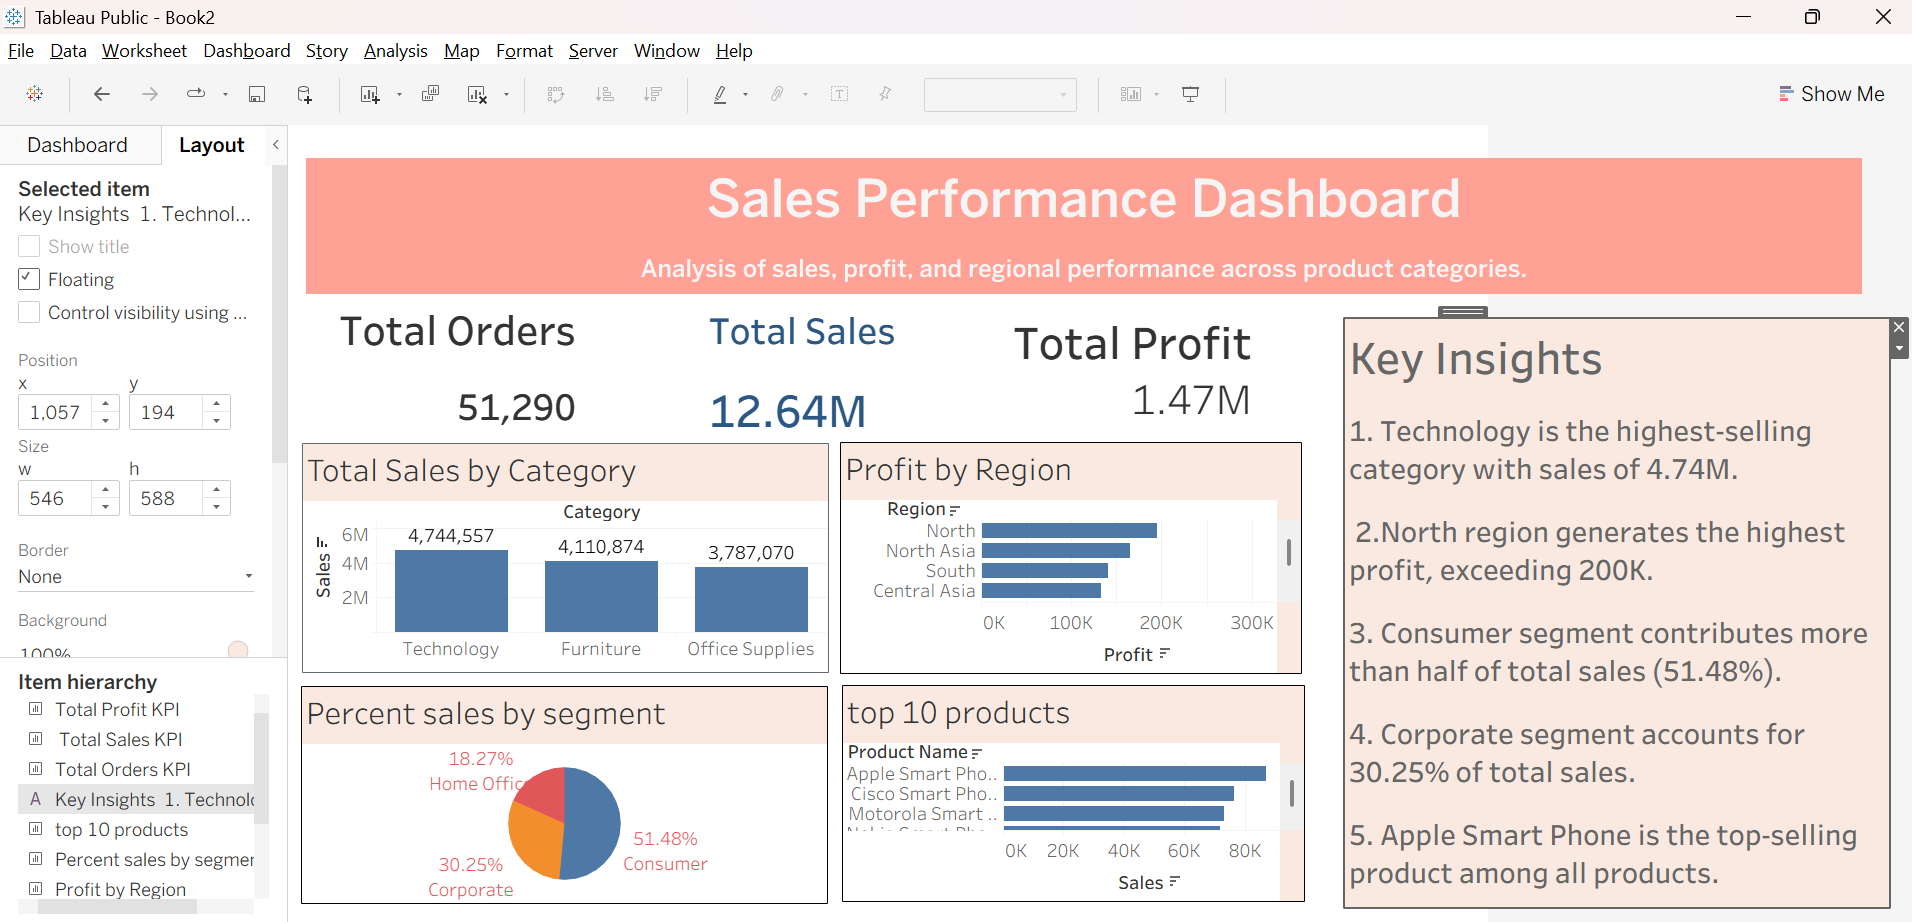

This screenshot's page, from the dashboard's own definition file:
{"tool":"tableau","page":{"name":"Dashboard 1","canvas":[1000,1000],"units":"permille","ordinal":0},"visuals":[{"type":"worksheet","title":"Total Profit KPI","mark":"Automatic","box":[588.3,195,285,203.8]},{"type":"worksheet","title":" Total Sales KPI","mark":"Automatic","box":[347.5,206.2,221.7,188.8]},{"type":"worksheet","title":"Total Orders KPI","mark":"Automatic","box":[16.7,221.2,245.8,178.8]},{"type":"worksheet","title":"Profit by Region","mark":"Automatic","rows":["Region"],"cols":["Profit"],"box":[460,396.2,385,290]},{"type":"worksheet","title":"Total Sales by Category","mark":"Automatic","rows":["Sales"],"cols":["Category"],"box":[11.7,397.5,439.2,287.5]},{"type":"worksheet","title":"top 10 products","mark":"Automatic","rows":["Product Name"],"cols":["Sales"],"box":[461.7,700,385.8,271.2]},{"type":"worksheet","title":"Percent sales by segment","mark":"Pie","box":[10.8,701.2,439.2,272.5]}]}

Visuals, with their boxes on the dashboard's canvas, which has no fixed pixel size, in thousandths of its width and height (x1, y1, x2, y2). These are canvas units, not pixel positions in the 1912x922 screenshot, which may show the page scaled, cropped or inside an application window:
"Total Profit KPI" worksheet: (588, 195, 873, 399)
" Total Sales KPI" worksheet: (348, 206, 569, 395)
"Total Orders KPI" worksheet: (17, 221, 262, 400)
"Profit by Region" worksheet: (460, 396, 845, 686)
"Total Sales by Category" worksheet: (12, 398, 451, 685)
"top 10 products" worksheet: (462, 700, 848, 971)
"Percent sales by segment" worksheet (Pie marks): (11, 701, 450, 974)
